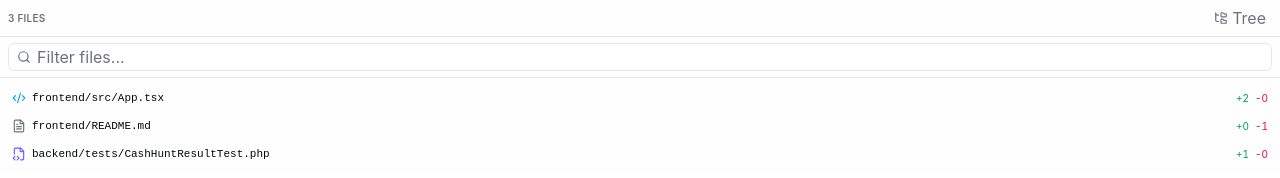
Test: GitDiffFileTree › filters files by path and renders file-type icons
Type "cash" into the search field with placeholder "Filter files..." at (650, 57), box [37, 45, 1263, 69]
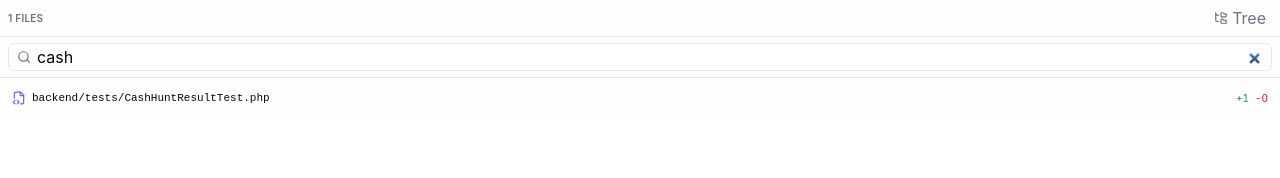
Expected: the text "backend/tests/CashHuntResultTest.php" is shown, [32, 92, 270, 104]
Expected: the button "frontend/src/App.tsx" is gone
